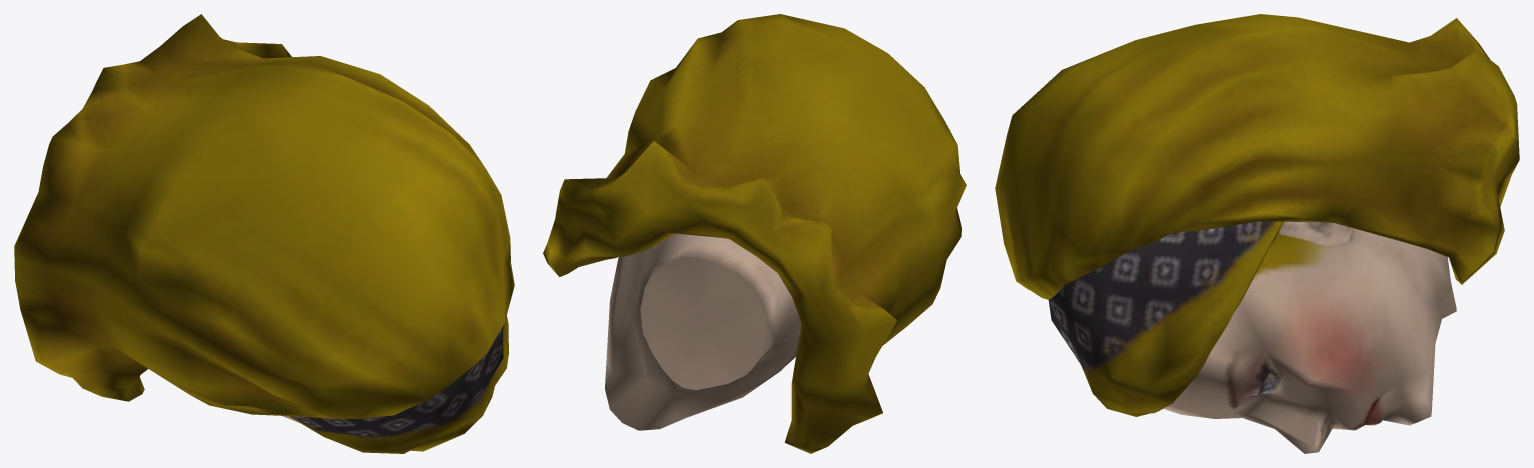
Rendered from dest_nt_nuked_female_03_head_LOD1.obj.
3 views of the same model, side by side, from view 1: azimuth 30°, elevation 25°; view 2: azimuth 150°, elevation 25°; view 3: azimuth 270°, elevation 25° (orthographic). The views are drawn at different scales.
Parts seen in each view (by area): view 1: mtl_nt_2020_manne_fem01_hair2; view 2: mtl_nt_2020_manne_fem01_hair2, mtl_nt_2020_manne_fem01_head2; view 3: mtl_nt_2020_manne_fem01_hair2, mtl_nt_2020_manne_fem01_head2.
Boxes of the visible parts, x1,y1,x2,y2 form: mtl_nt_2020_manne_fem01_hair2: [14, 14, 514, 453]; mtl_nt_2020_manne_fem01_hair2: [543, 14, 966, 453]; mtl_nt_2020_manne_fem01_head2: [605, 233, 800, 430]; mtl_nt_2020_manne_fem01_hair2: [995, 14, 1519, 416]; mtl_nt_2020_manne_fem01_head2: [1163, 221, 1456, 453].
Bounding box in the file's own units: 27.87 × 26.14 × 32.78.
